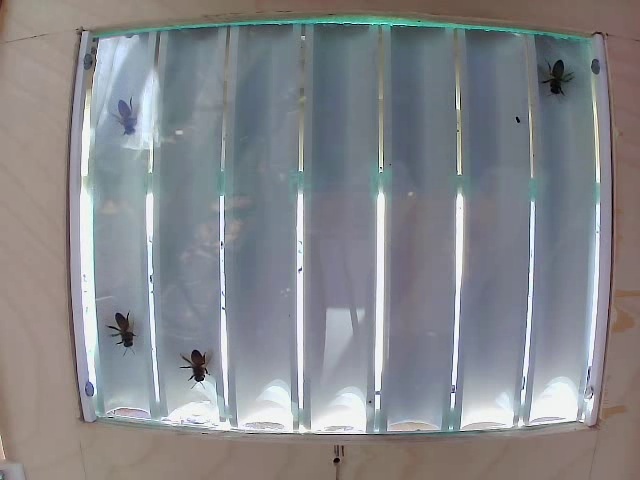bee: (107, 104, 155, 154), (181, 333, 219, 390), (105, 312, 140, 353), (548, 52, 568, 95)
